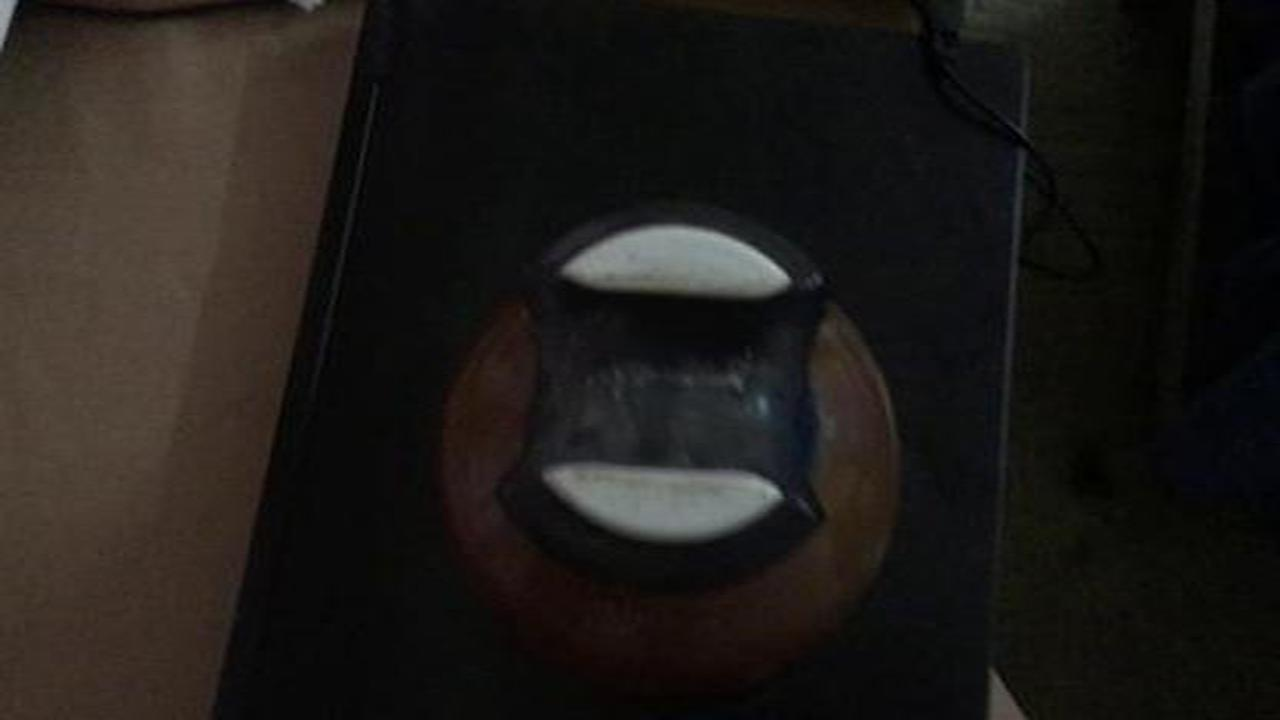insulator_pin: (416, 186, 939, 681)
